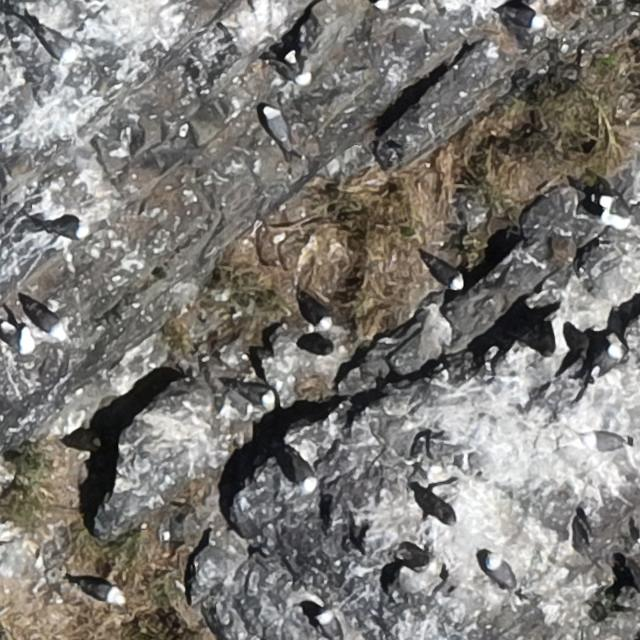umineko: (288, 444, 320, 498), (593, 184, 630, 228), (288, 49, 316, 85), (30, 307, 66, 333), (3, 324, 35, 353), (503, 7, 542, 29), (302, 299, 330, 329), (431, 261, 462, 288), (489, 558, 514, 590), (81, 581, 119, 602), (264, 109, 286, 143), (238, 386, 274, 406), (44, 34, 71, 59), (594, 344, 618, 372), (52, 222, 88, 240), (585, 434, 621, 451), (318, 613, 338, 639), (373, 0, 403, 9)
